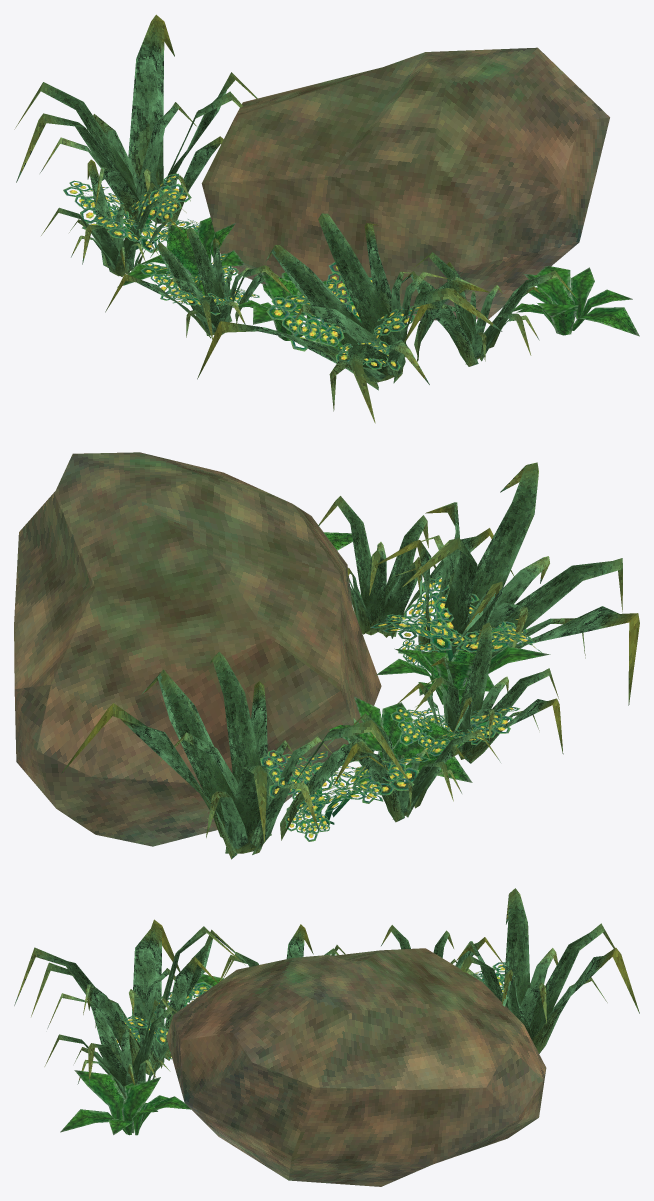
The model's file is prefab_06.glb.
3 views of the same model, one above another, from view 1: azimuth 30°, elevation 25°; view 2: azimuth 150°, elevation 25°; view 3: azimuth 270°, elevation 25° (orthographic). The views are drawn at different scales.
Parts seen in each view (by area): view 1: PRFB_06-no-col; view 2: PRFB_06-no-col; view 3: PRFB_06-no-col.
Boxes of the visible parts, box(x1,y1,x2,y2) form: PRFB_06-no-col: box(14, 14, 639, 423); PRFB_06-no-col: box(14, 452, 639, 859); PRFB_06-no-col: box(14, 888, 639, 1186).
Bounding box in the file's own units: 3.38 × 1.75 × 4.38.
3 materials, 3 textured.
